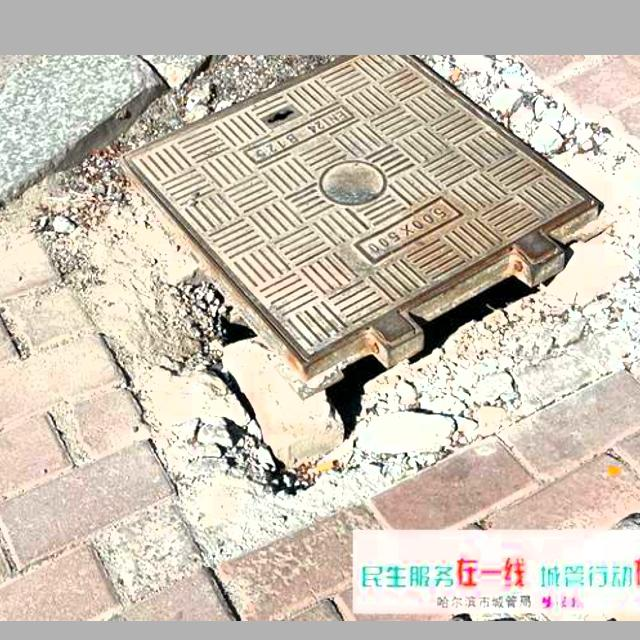circle: (36, 63, 640, 506)
